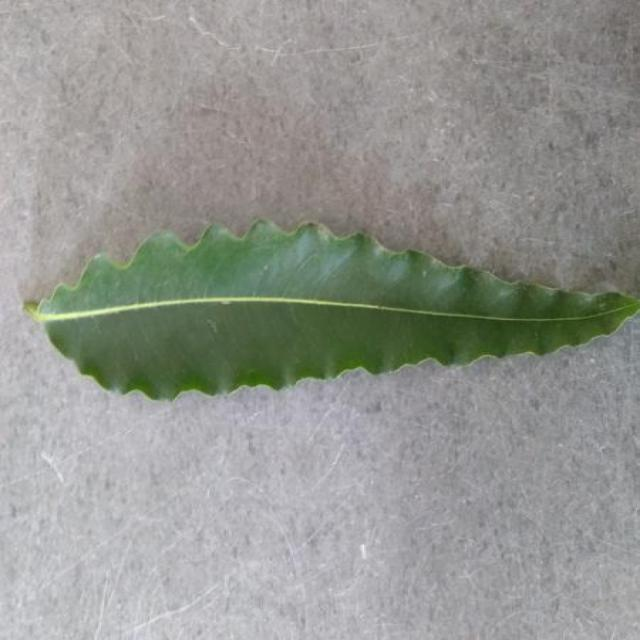ashoka: (27, 221, 638, 399), (3, 0, 100, 292)
